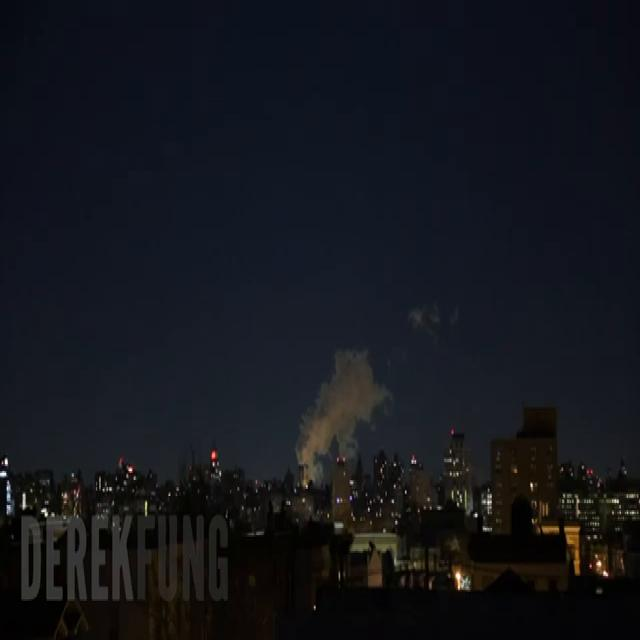smoke: (295, 352, 387, 482)
